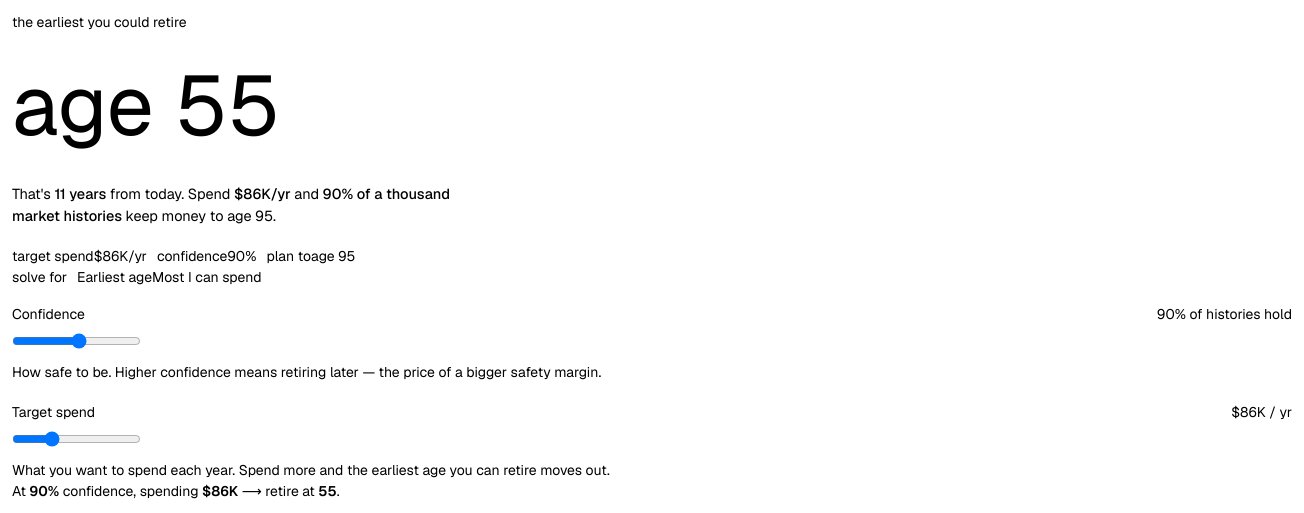
it: ResultExplorer › shows the earliest age in age mode and switches to sustainable spend
Check: the text "age 55" is shown, box [12,43,280,169]
Click the button "Most I can spend". click: (207, 277)
box: [152,267,262,288]
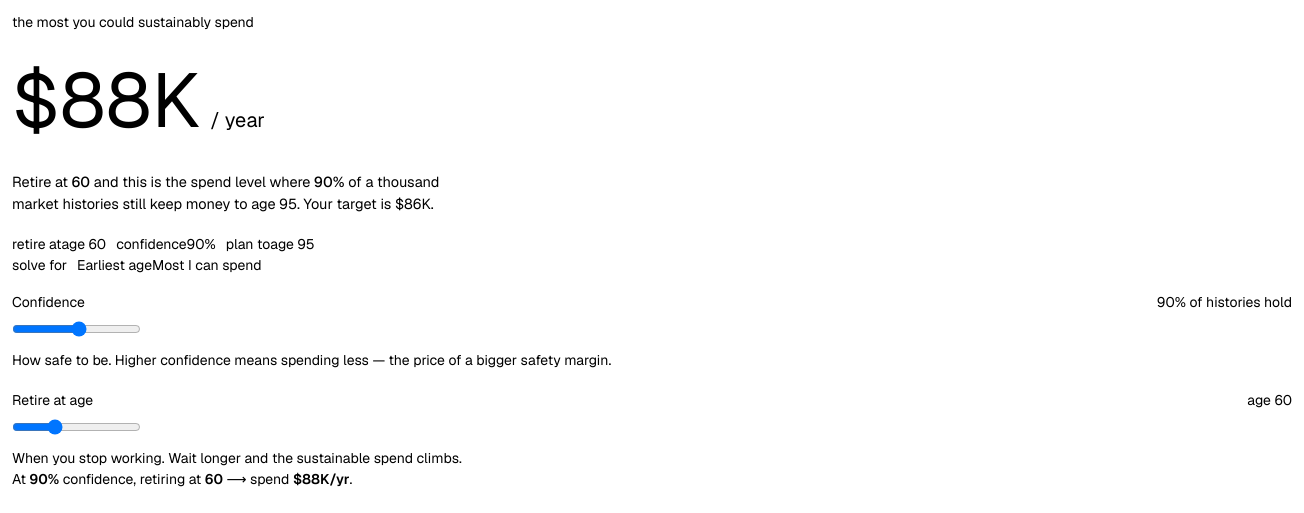
Check: the text "$88K" is shown, box [12,43,200,157]
